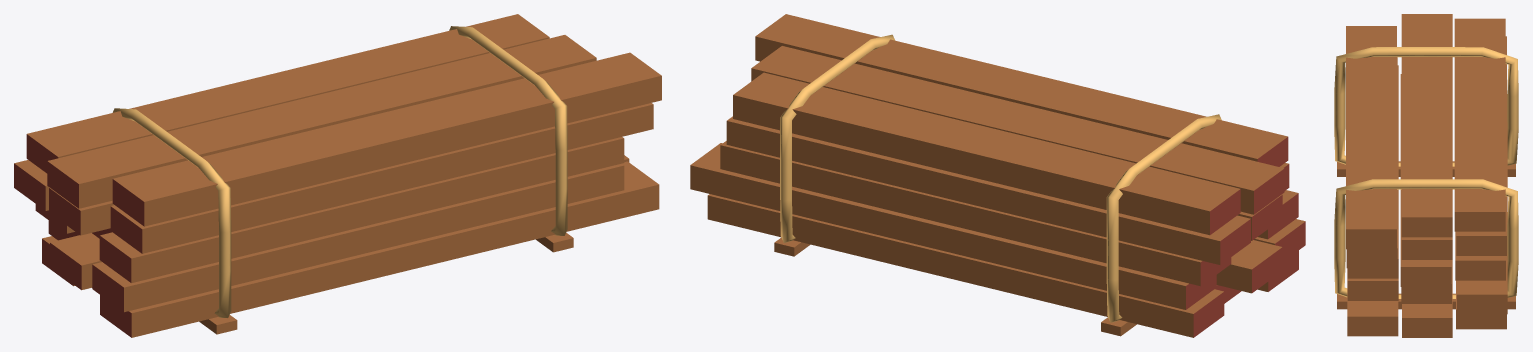
3 renders of one model, left to right at view 1: azimuth 30°, elevation 25°; view 2: azimuth 150°, elevation 25°; view 3: azimuth 270°, elevation 25°, orthographic. The views are drawn at different scales.
Visible parts, largest first — view 1: body, timberGrain, ropeGold; view 2: body, timberGrain, ropeGold; view 3: body, ropeGold.
Part boxes in pixels (<box>): body: <box>14,14,661,337</box>; timberGrain: <box>14,134,144,337</box>; ropeGold: <box>112,26,567,317</box>; body: <box>690,14,1305,337</box>; timberGrain: <box>1186,137,1305,337</box>; ropeGold: <box>780,34,1221,322</box>; body: <box>1337,14,1515,337</box>; ropeGold: <box>1334,47,1518,298</box>.
Size of the model in its own units: 2.68 by 0.728 by 0.968.
